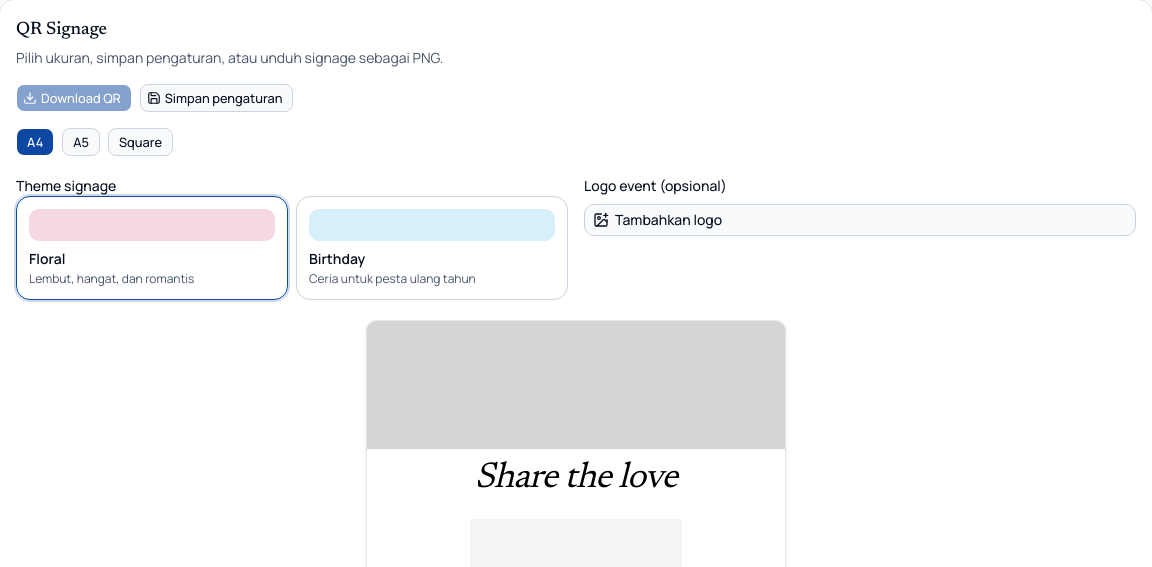
SignagePanel › shows save errors
Click the button "Simpan pengaturan".
click(216, 98)  # box [140,84,293,112]
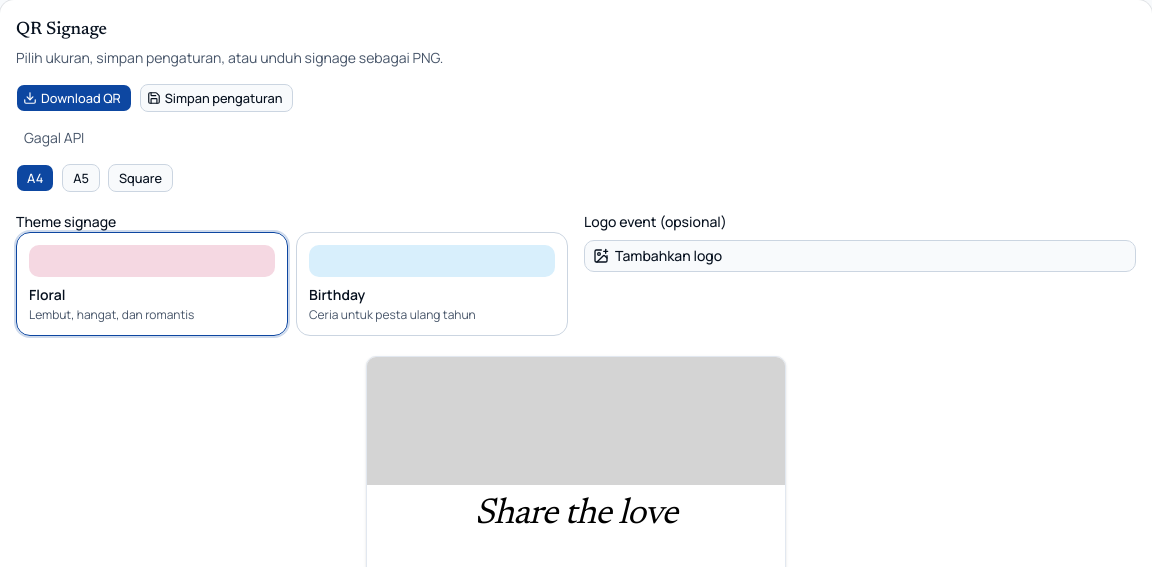
Expected: the message reads "Gagal API", [24,128,84,147]
